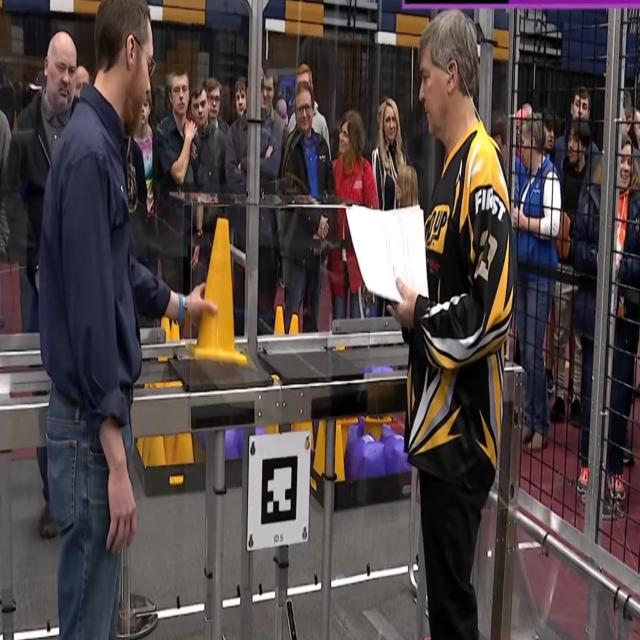frc_cone: (187, 216, 248, 362), (331, 424, 346, 481), (146, 432, 167, 468), (176, 430, 196, 464), (313, 422, 326, 472), (364, 418, 391, 437), (271, 303, 287, 335), (164, 432, 176, 466), (139, 434, 151, 464), (290, 310, 301, 335)
frc_cube: (348, 432, 385, 474), (383, 432, 412, 470)
